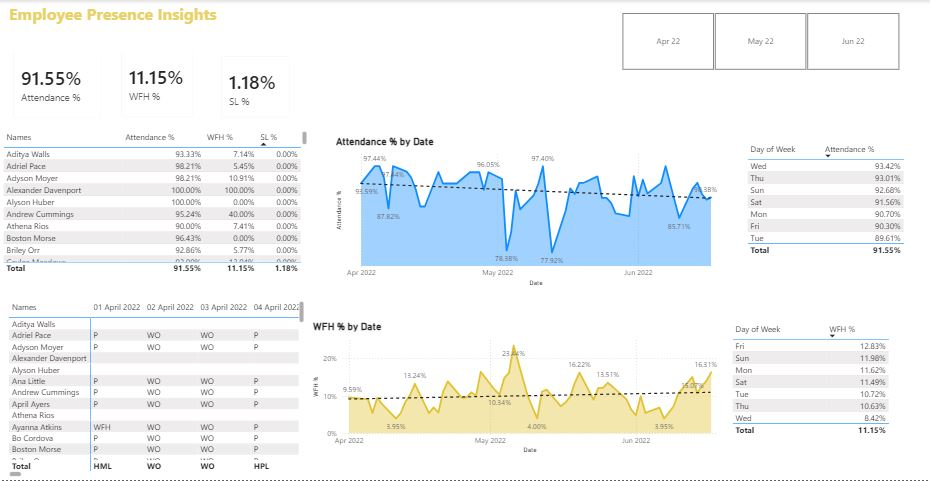

Layout of this report page (visuals, bound fields, positions):
{"tool":"powerbi","page":{"name":"Page 1","canvas":[1550,800],"ordinal":0},"visuals":[{"type":"cardVisual","fields":{"Data":["Measure Table.Attendance Percentage"]},"box":[5.8,64.8,181.4,148.3],"z":2},{"type":"slicer","fields":{"Values":["Combined Data.Month"]},"box":[1011,14.2,510.6,107.8],"z":3},{"type":"cardVisual","fields":{"Data":["Measure Table.WFH %"]},"box":[185.8,63.4,154.1,148.3],"z":4},{"type":"cardVisual","fields":{"Data":["Measure Table.SL %"]},"box":[351.9,77.3,148.5,136.3],"z":5},{"type":"tableEx","fields":{"Values":["Combined Data.Names","Measure Table.Attendance Percentage","Measure Table.WFH %","Measure Table.SL %"]},"box":[0,213.6,516.7,248.2],"z":6},{"type":"textbox","box":[10.2,0,516.7,85.4],"z":7},{"type":"pivotTable","fields":{"Columns":["Combined Data.Date"],"Rows":["Combined Data.Names"],"Values":["Min(Combined Data.Value)"]},"box":[10.2,496.3,502.4,303.1],"z":8},{"type":"areaChart","fields":{"Y":["Measure Table.Attendance %"],"Category":["Combined Data.Date"]},"box":[555.3,225.8,659.1,256.3],"z":9},{"type":"areaChart","fields":{"Y":["Measure Table.WFH %"],"Category":["Combined Data.Date"]},"box":[516.7,532.9,697.7,227.8],"z":10},{"type":"tableEx","fields":{"Values":["Combined Data.Day of Week","Measure Table.Attendance %"]},"box":[1240.8,233.9,280.7,227.8],"z":11},{"type":"tableEx","fields":{"Values":["Combined Data.Day of Week","Measure Table.WFH %"]},"box":[1214.4,532.9,280.7,227.8],"z":12}]}

Visuals, with their boxes in screenshot pixels (x1, y1, x2, y2), scaled from the page's 1550x800 canvas onto the 930x481 screenshot:
cardVisual - Measure Table.Attendance Percentage: BBox(3, 39, 112, 128)
slicer - Combined Data.Month: BBox(607, 9, 913, 73)
cardVisual - Measure Table.WFH %: BBox(111, 38, 204, 127)
cardVisual - Measure Table.SL %: BBox(211, 46, 300, 128)
tableEx - Combined Data.Names x Measure Table.Attendance Percentage: BBox(0, 128, 310, 278)
textbox: BBox(6, 0, 316, 51)
pivotTable - Combined Data.Date x Combined Data.Names: BBox(6, 298, 308, 480)
areaChart - Measure Table.Attendance % x Combined Data.Date: BBox(333, 136, 729, 290)
areaChart - Measure Table.WFH % x Combined Data.Date: BBox(310, 320, 729, 457)
tableEx - Combined Data.Day of Week x Measure Table.Attendance %: BBox(744, 141, 913, 278)
tableEx - Combined Data.Day of Week x Measure Table.WFH %: BBox(729, 320, 897, 457)
